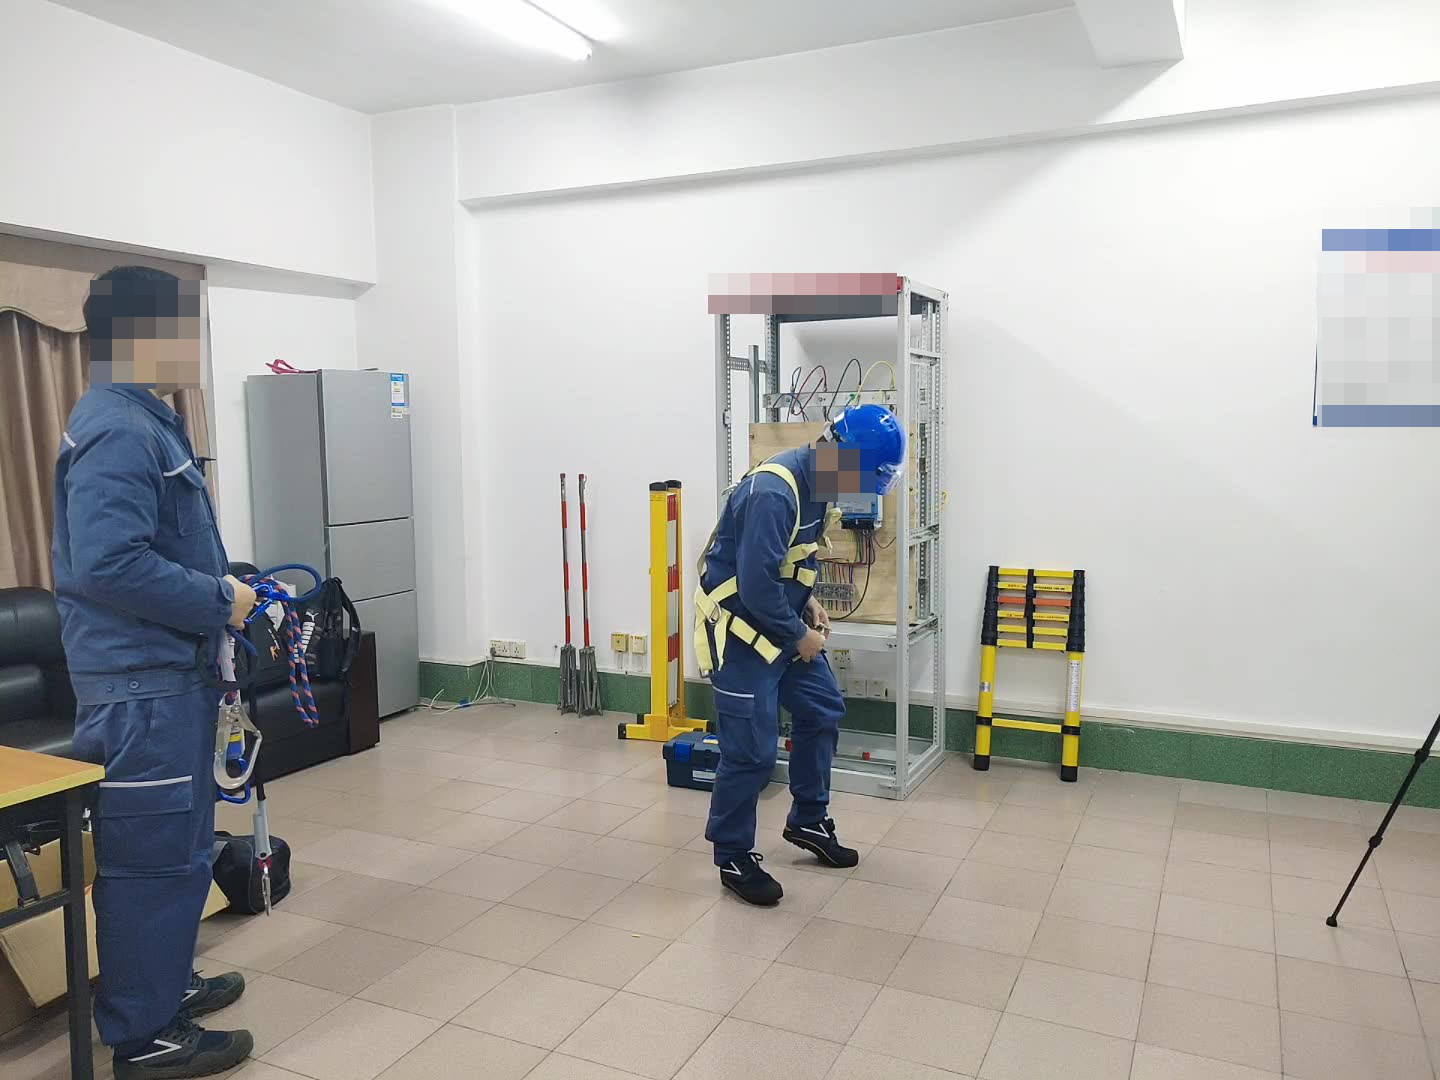downsuit: (73, 705, 227, 1057), (705, 647, 846, 852)
halt: (817, 399, 910, 502)
hand: (214, 570, 256, 635), (797, 629, 825, 665), (802, 595, 833, 620)
inear: (817, 442, 866, 486)
noear: (119, 325, 172, 377)
person: (44, 256, 290, 1080), (692, 395, 908, 895)
safebelt: (692, 443, 842, 700)
unhalt: (79, 265, 210, 402)
upsuit: (52, 359, 244, 686), (706, 447, 829, 629)
